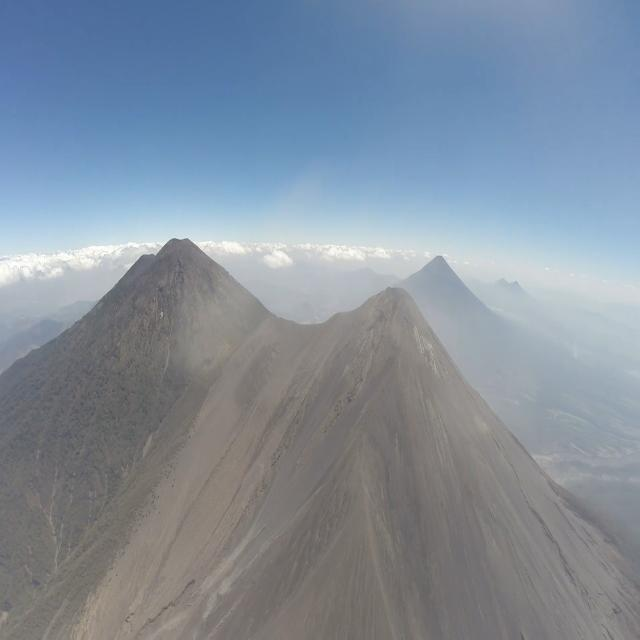Summit: (324, 281, 464, 378)
